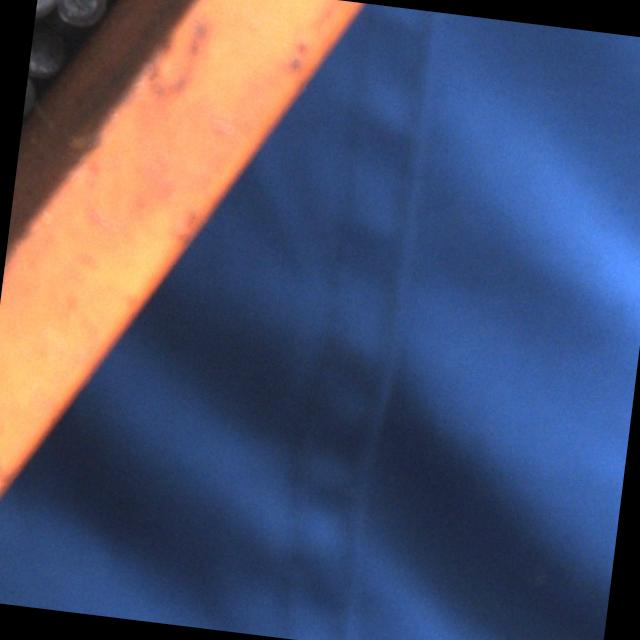tool: (28, 29, 66, 80), (49, 0, 106, 26)
